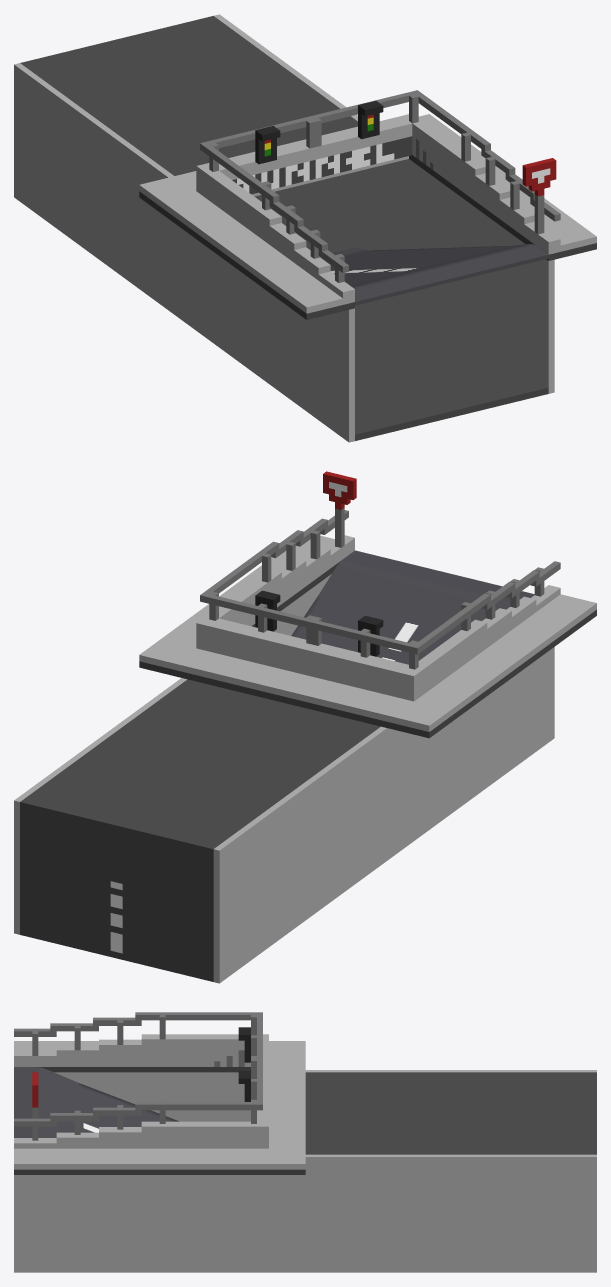
Rendered from Tunnel_Kurve.fbx.
3 renders of one model, top to bottom at view 1: azimuth 30°, elevation 25°; view 2: azimuth 150°, elevation 25°; view 3: azimuth 270°, elevation 25°, orthographic. The views are drawn at different scales.
Parts seen in each view (by area): view 1: ObjObject, Cube; view 2: ObjObject, Cube; view 3: ObjObject, Cube.
Boxes of the visible parts, box(x1,y1,x2,y2) form: ObjObject: box(14, 14, 596, 442); Cube: box(320, 244, 548, 305); ObjObject: box(14, 471, 596, 983); Cube: box(291, 550, 534, 664); ObjObject: box(14, 1012, 596, 1272); Cube: box(14, 1067, 179, 1137).
Size of the model in its own units: 480 by 350 by 960.
